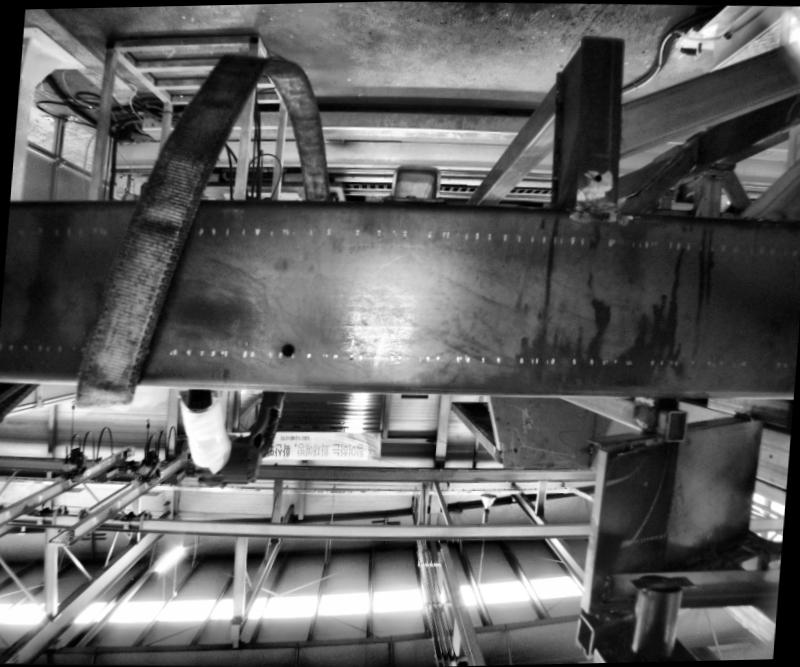bracket: (375, 156, 450, 202)
hole: (280, 342, 291, 354)
